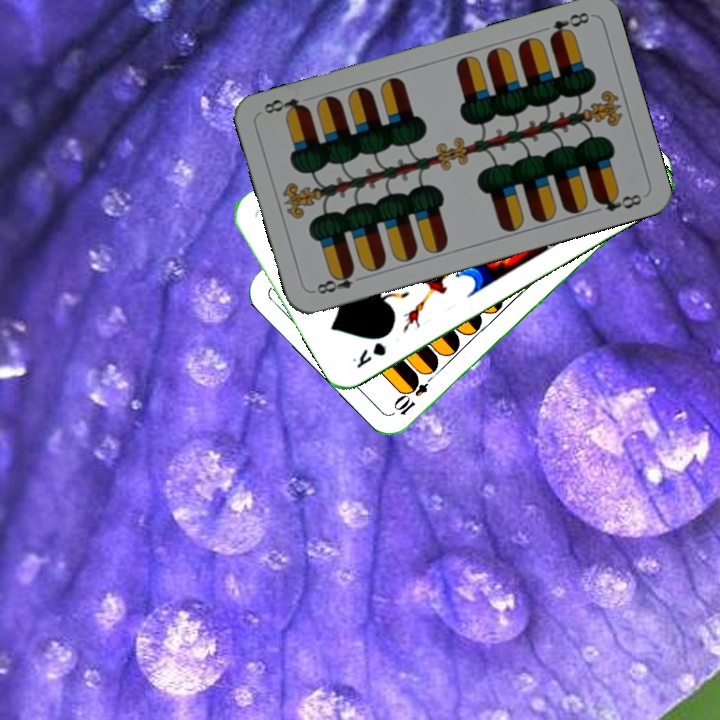E10: (390, 368, 439, 418)
E8: (309, 265, 368, 297), (545, 8, 592, 43)
GK: (348, 338, 389, 371)
